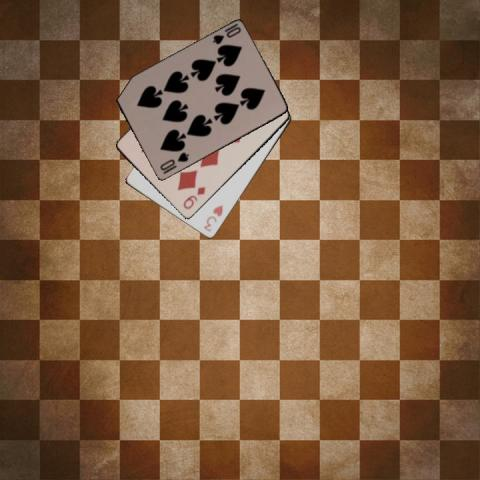10s: (209, 21, 242, 46), (157, 149, 190, 172)
3h: (200, 202, 224, 233)
9d: (180, 184, 207, 211)
